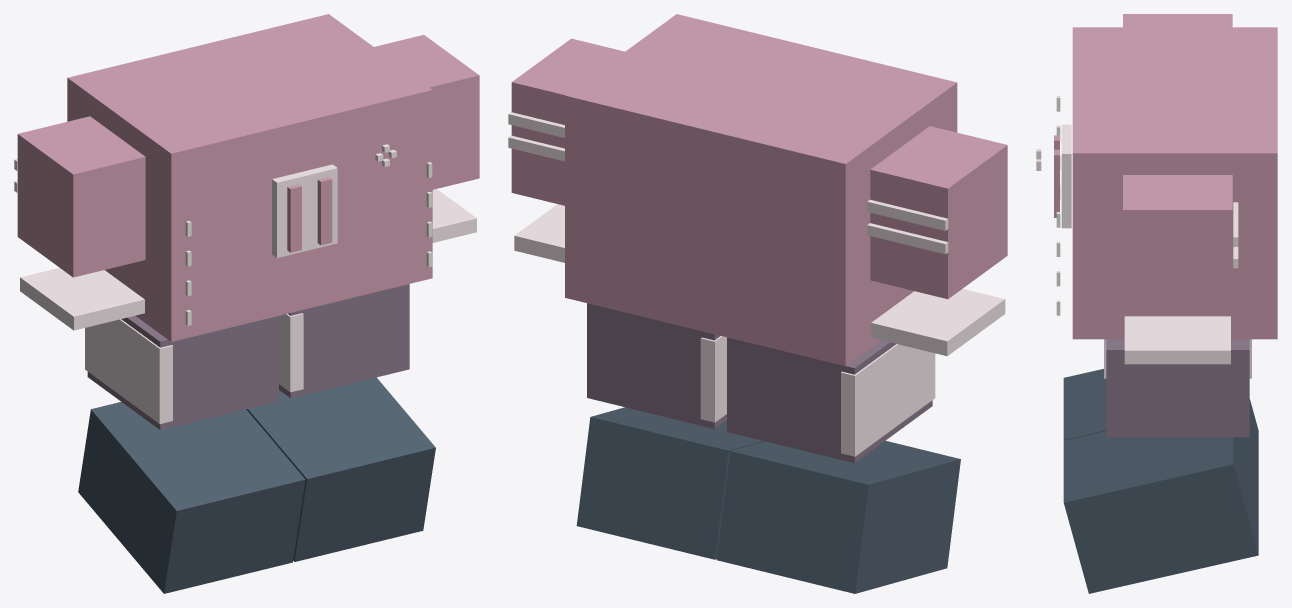
The model's file is sport-rose.glb.
3 renders of one model, left to right at view 1: azimuth 30°, elevation 25°; view 2: azimuth 150°, elevation 25°; view 3: azimuth 270°, elevation 25°, orthographic. The views are drawn at different scales.
Parts seen in each view (by area): view 1: jacket, shoe-Right, shoe-Left, upper-sleeve-Right, trouser-Right, trouser-Left, upper-sleeve-Left, shorts-stripe-Right, cuff-Right, jersey-number, shorts-stripe-Left, cuff-Left (+2 smaller); view 2: jacket, shoe-Right, shoe-Left, upper-sleeve-Right, trouser-Right, trouser-Left, upper-sleeve-Left, shorts-stripe-Right, cuff-Right, shorts-stripe-Left, cuff-Left, design-sport-shoulder-stripe-Right-0 (+3 smaller); view 3: jacket, shoe-Left, upper-sleeve-Left, trouser-Left, cuff-Left, shoe-Right, upper-sleeve-Right, jersey-number, design-sport-number-eleven-0.025.
Part boxes in pixels (x1,y1,x2,y2): jacket: (67, 14, 432, 341); shoe-Right: (78, 402, 305, 593); shoe-Left: (246, 377, 435, 561); upper-sleeve-Right: (17, 116, 145, 277); trouser-Right: (87, 316, 278, 429); trouser-Left: (279, 284, 409, 398); upper-sleeve-Left: (374, 35, 479, 189); shorts-stripe-Right: (85, 319, 172, 423); cuff-Right: (20, 267, 144, 330); jersey-number: (272, 164, 337, 257); shorts-stripe-Left: (279, 313, 303, 392); cuff-Left: (432, 189, 476, 242); jacket: (565, 14, 957, 366); shoe-Right: (717, 440, 960, 593); shoe-Left: (576, 407, 764, 559); upper-sleeve-Right: (870, 126, 1007, 299); trouser-Right: (727, 337, 932, 462); trouser-Left: (587, 303, 726, 428); upper-sleeve-Left: (511, 38, 624, 205); shorts-stripe-Right: (841, 344, 935, 456); cuff-Right: (871, 288, 1005, 356); shorts-stripe-Left: (700, 336, 726, 422); cuff-Left: (514, 204, 564, 262); design-sport-shoulder-stripe-Right-0: (867, 199, 948, 230); jacket: (1072, 27, 1277, 339); shoe-Left: (1063, 431, 1258, 593); upper-sleeve-Left: (1123, 175, 1232, 311); trouser-Left: (1106, 339, 1249, 437); cuff-Left: (1124, 316, 1230, 364); shoe-Right: (1063, 369, 1258, 492); upper-sleeve-Right: (1123, 14, 1232, 27); jersey-number: (1061, 124, 1071, 228); design-sport-number-eleven-0.025: (1054, 149, 1059, 217).
Size of the model in its own units: 1.07 by 1.13 by 0.559.
